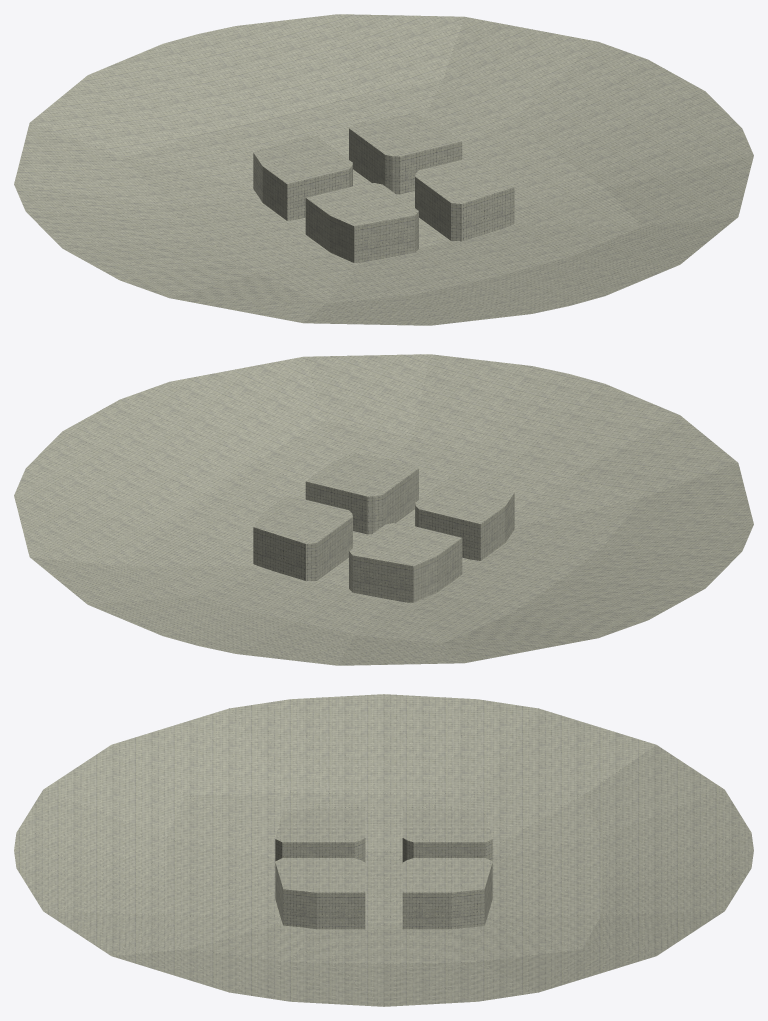
File: SM_TheSamePlace_09_Block_00.fbx
3 views of the same model, one above another, from view 1: azimuth 30°, elevation 25°; view 2: azimuth 150°, elevation 25°; view 3: azimuth 270°, elevation 25° (orthographic).
Parts seen in each view (by area): view 1: SM_TheSamePlace_09_Block_00.001, SM_TheSamePlace_09_Block_00; view 2: SM_TheSamePlace_09_Block_00.001, SM_TheSamePlace_09_Block_00; view 3: SM_TheSamePlace_09_Block_00.001, SM_TheSamePlace_09_Block_00.
Part boxes in pixels (x1=…): SM_TheSamePlace_09_Block_00.001: x1=14, y1=14, x2=753, y2=325; SM_TheSamePlace_09_Block_00: x1=253, y1=113, x2=514, y2=262; SM_TheSamePlace_09_Block_00.001: x1=14, y1=354, x2=753, y2=665; SM_TheSamePlace_09_Block_00: x1=253, y1=453, x2=514, y2=602; SM_TheSamePlace_09_Block_00.001: x1=14, y1=694, x2=753, y2=1006; SM_TheSamePlace_09_Block_00: x1=275, y1=807, x2=492, y2=929.
Bounding box in the file's own units: 10189 × 574 × 10189.
